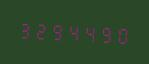four: (65, 19, 80, 44), (81, 20, 96, 45)
nine: (49, 18, 64, 43), (97, 21, 112, 45)
three: (17, 17, 32, 41)
two: (33, 17, 48, 42)
zero: (113, 22, 128, 46)
